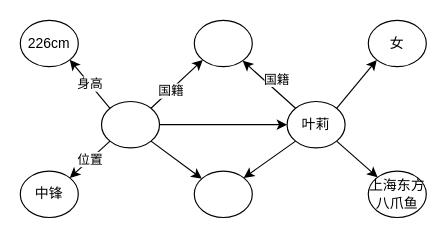
This 447x238 diagram has some shape labels left out. Here are the shapes that lost their labels. From the top down, the centre of each, then its label:
At point (222, 43): "中国".
At point (130, 124): "姚明".
At point (222, 193): "人物".
